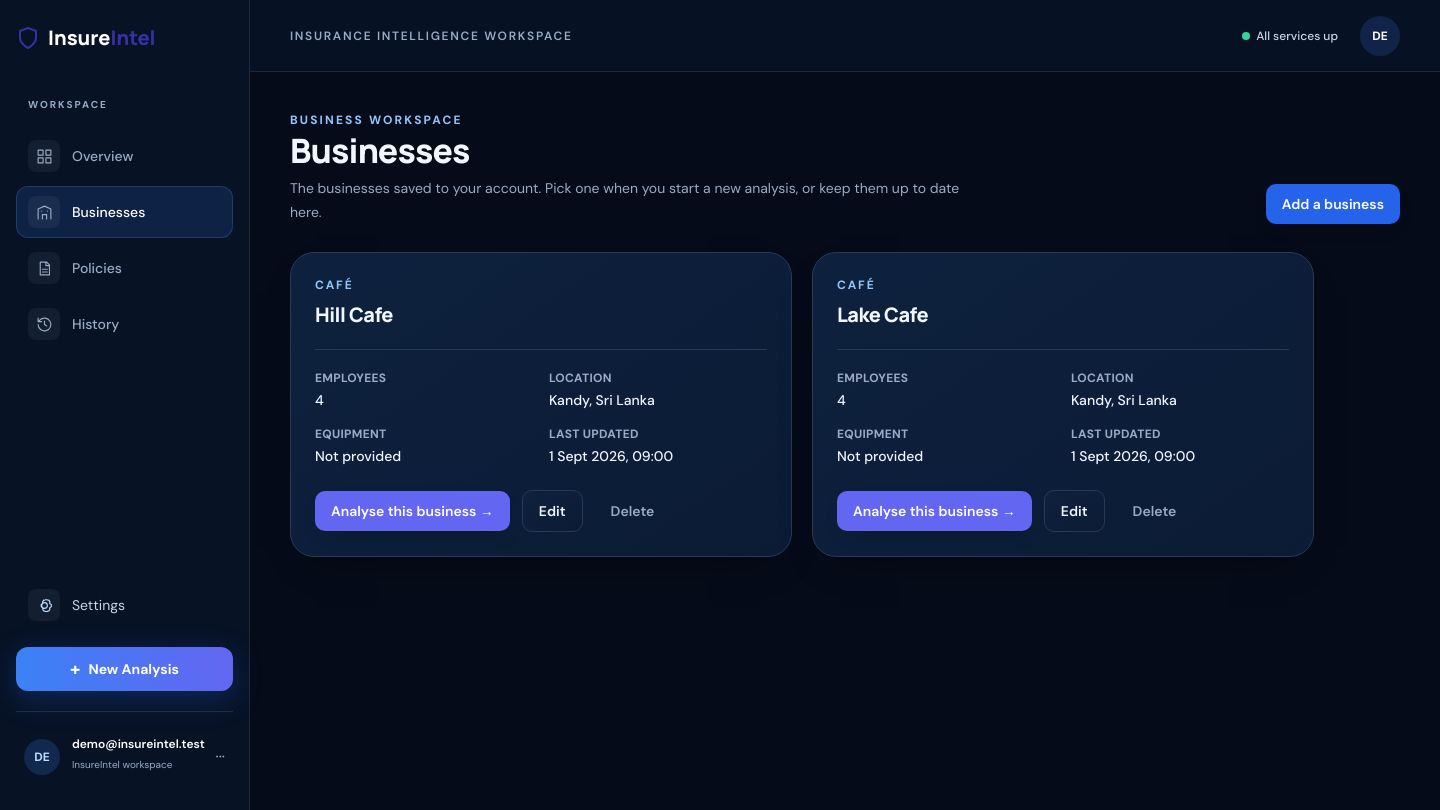
Test case: businesses page › deletes a business only after it is confirmed
Expected: the heading "Businesses" is shown, [290, 127, 470, 173]
Click the button with aria-label "Delete Hill Cafe" at {"x": 632, "y": 511}, box [595, 491, 670, 531]
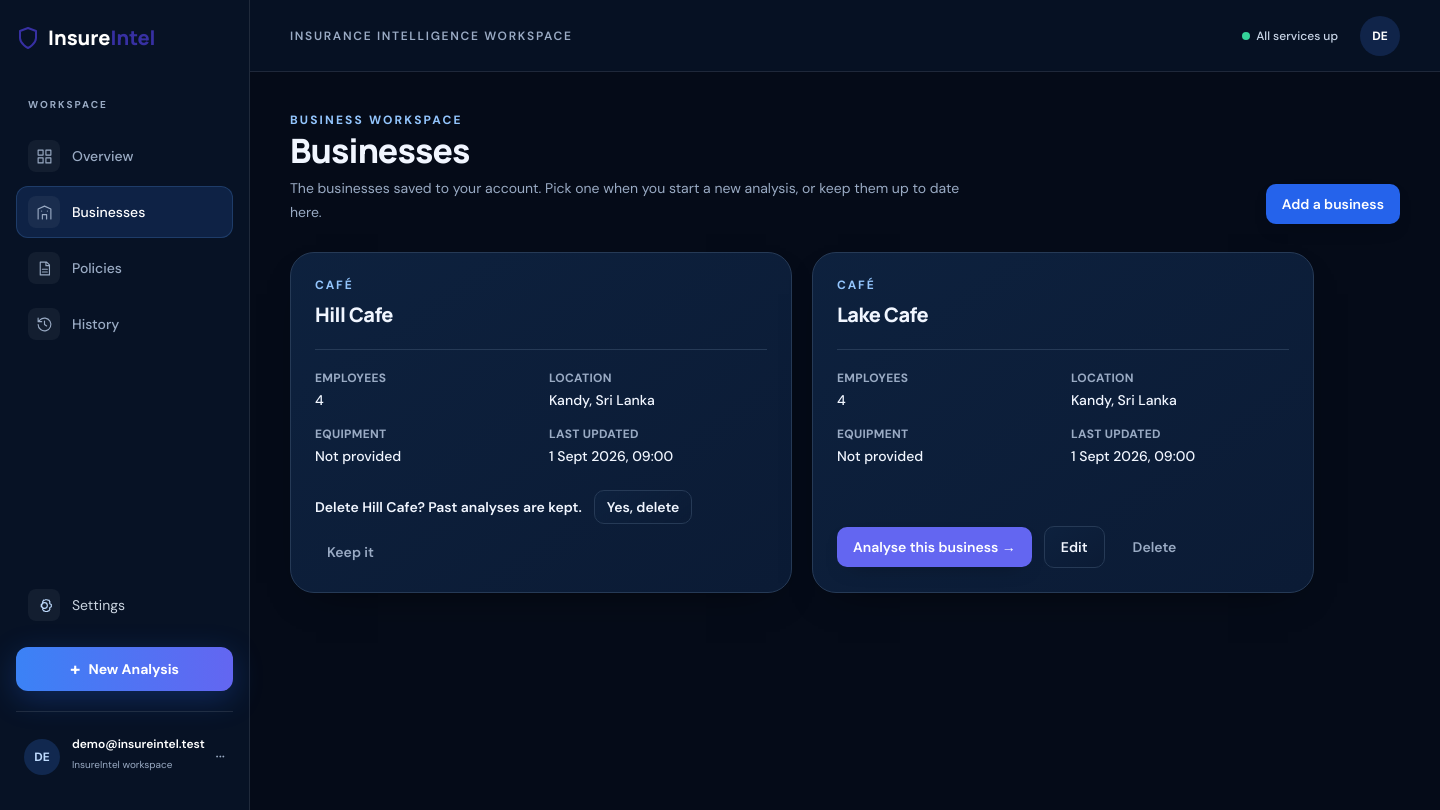
Click the button "Keep it" at {"x": 350, "y": 552}, box [315, 536, 386, 568]
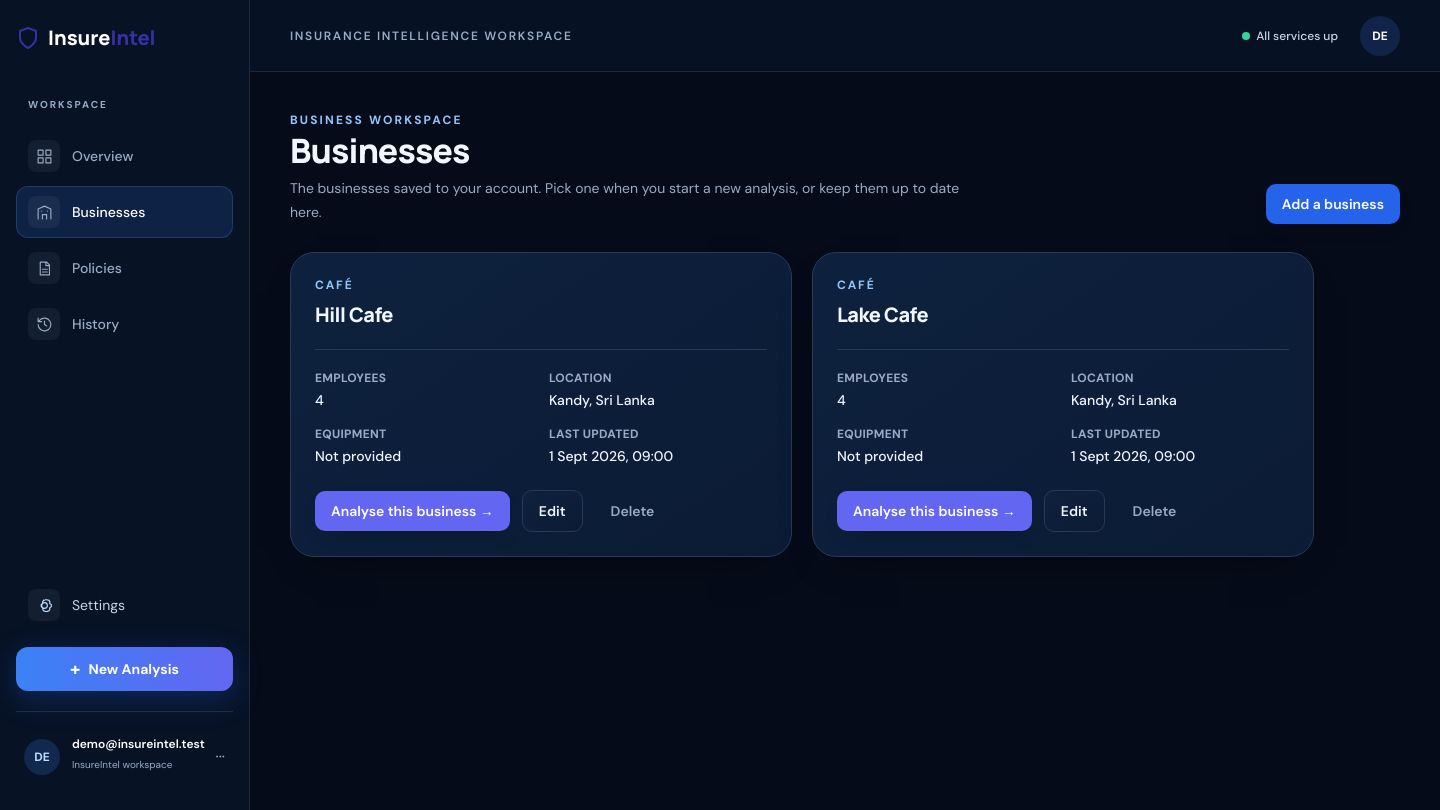
Click the button with aria-label "Delete Hill Cafe" at {"x": 632, "y": 511}, box [595, 491, 670, 531]
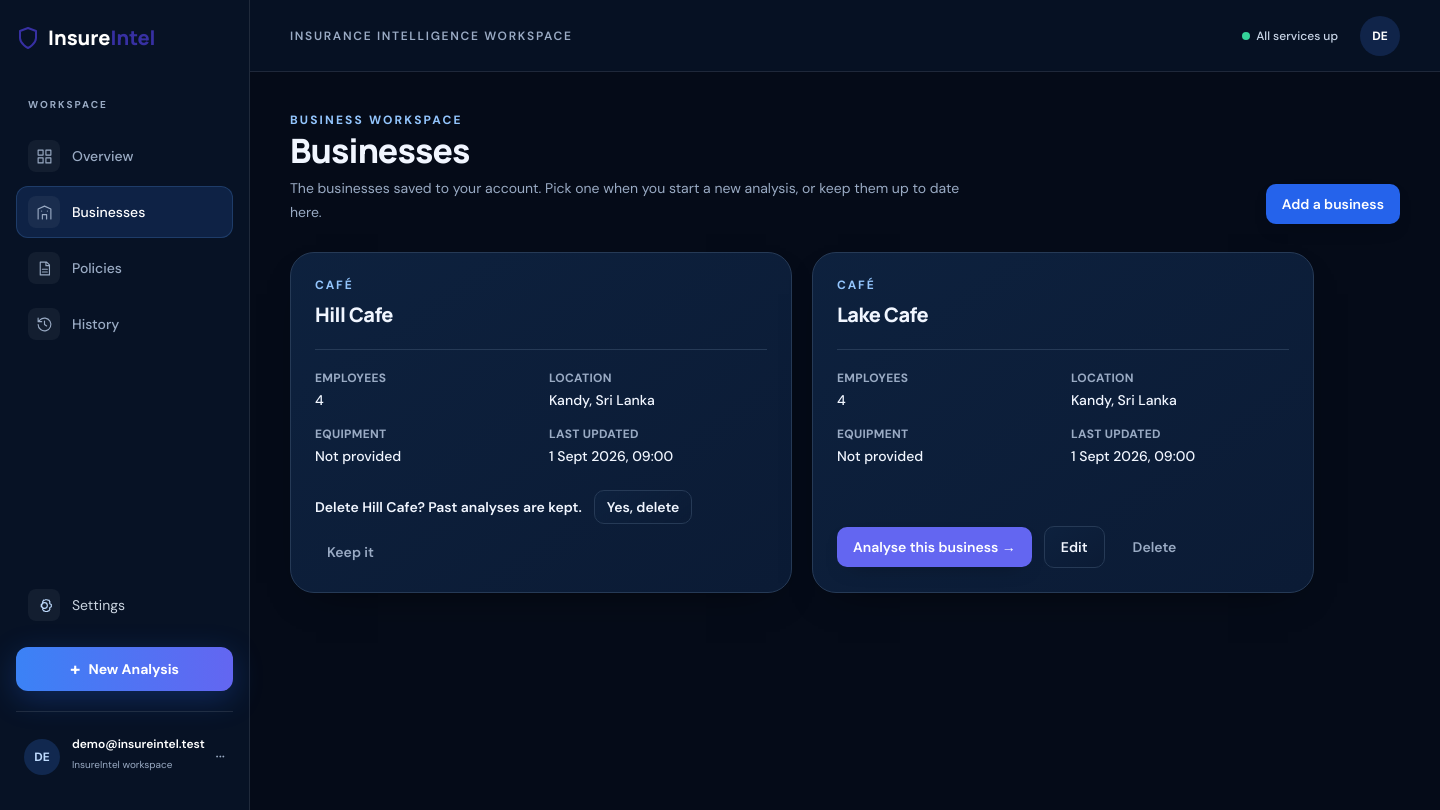
Result: the element "Delete Hill Cafe?" shows "Past analyses are kept." at [417, 498, 582, 516]
Click the button "Yes, delete" at {"x": 643, "y": 507}, box [594, 490, 692, 524]
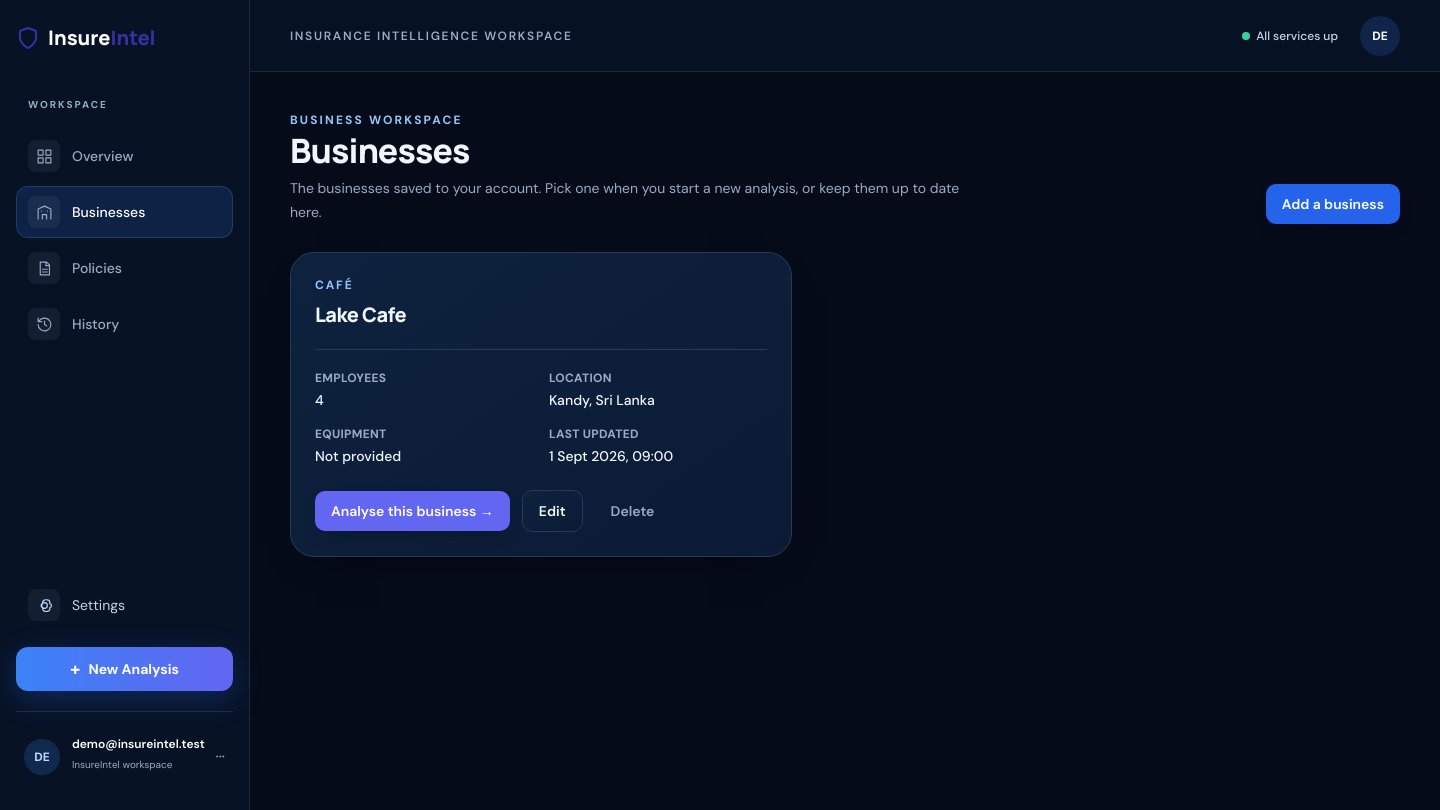
Result: the heading "Hill Cafe" is gone
